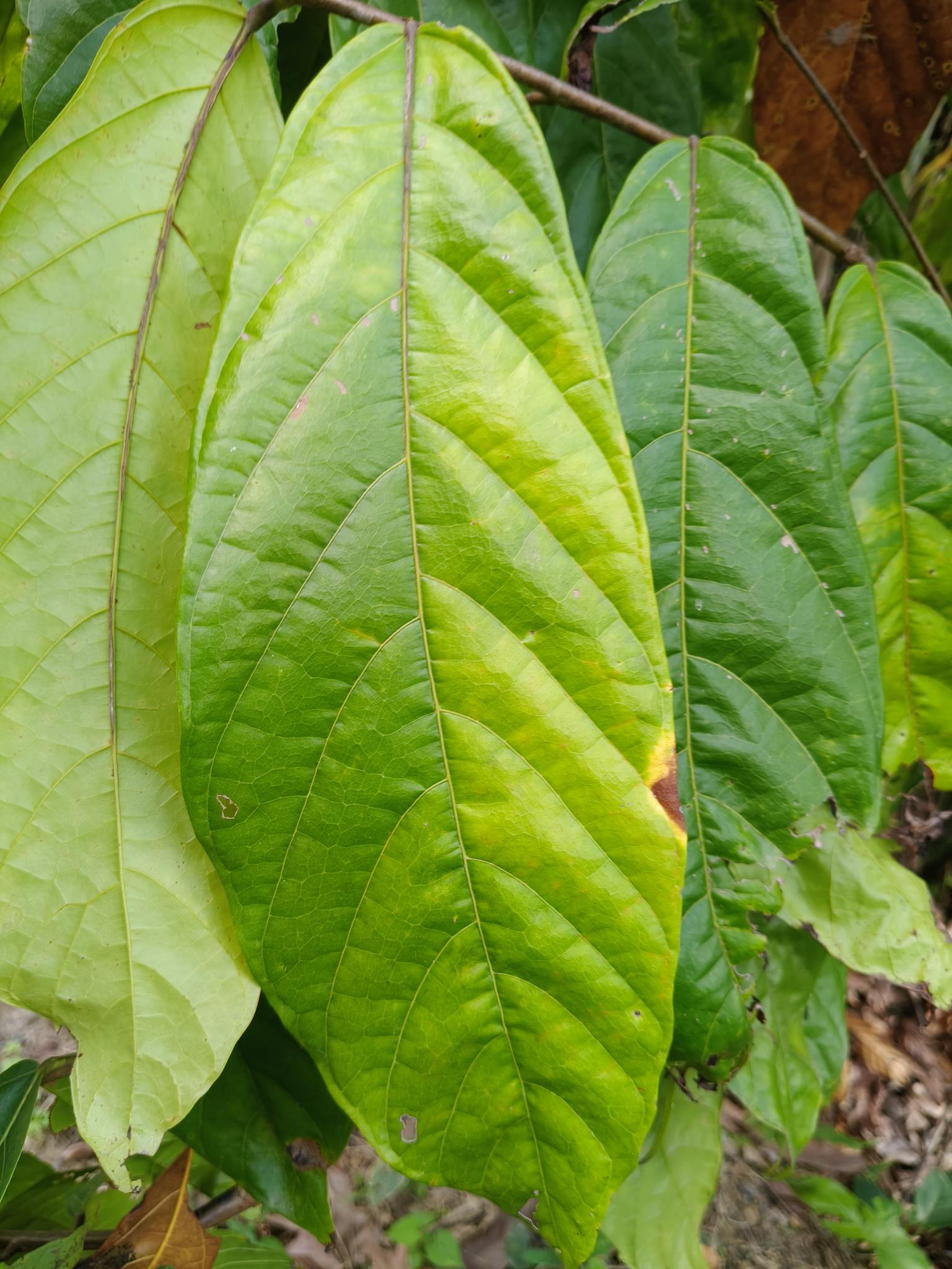Fosforo: (159, 7, 690, 1269)
